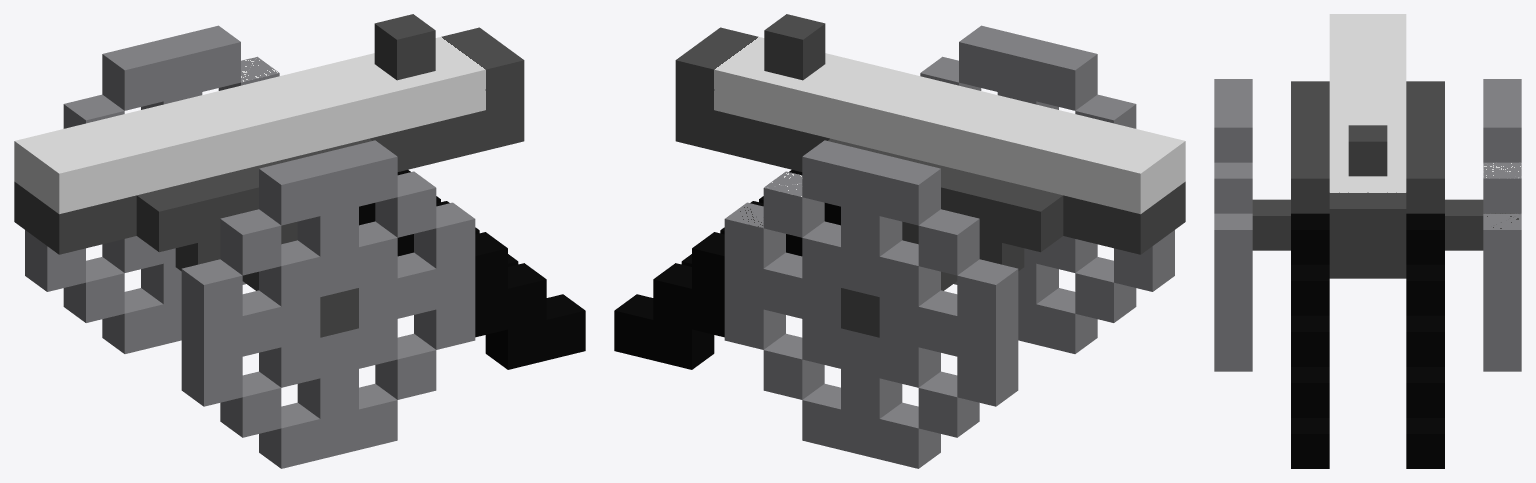
The model's file is cannon.glb.
3 renders of one model, left to right at view 1: azimuth 30°, elevation 25°; view 2: azimuth 150°, elevation 25°; view 3: azimuth 270°, elevation 25°, orthographic. The views are drawn at different scales.
Parts seen in each view (by area): view 1: cannon; view 2: cannon; view 3: cannon.
Boxes of the visible parts, x1,y1,x2,y2 form: cannon: (14, 14, 585, 468); cannon: (614, 14, 1185, 468); cannon: (1214, 14, 1521, 468).
Size of the model in its own units: 0.5239 by 0.3224 by 0.3224.
Materials: 1 (1 with a texture image).
